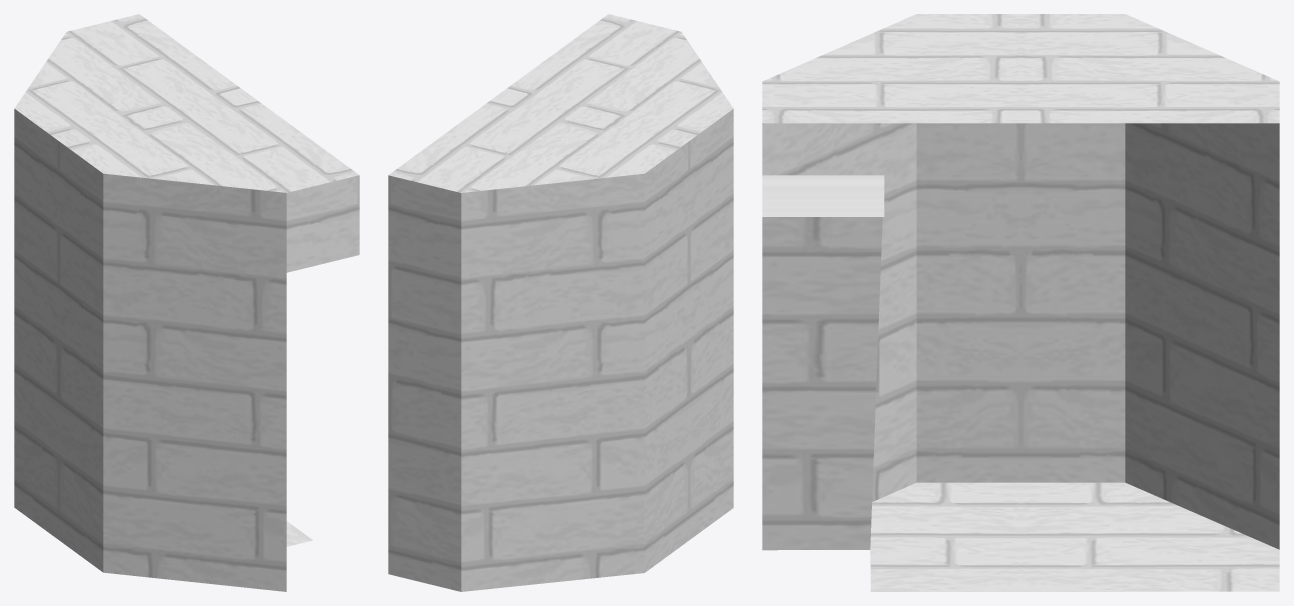
File: castle_type_e.gltf
3 views of the same model, side by side, from view 1: azimuth 30°, elevation 25°; view 2: azimuth 150°, elevation 25°; view 3: azimuth 270°, elevation 25° (orthographic). The views are drawn at different scales.
Visible parts, largest first — view 1: Type_E; view 2: Type_E; view 3: Type_E.
Boxes of the visible parts, x1,y1,x2,y2 form: Type_E: (14,14,359,591); Type_E: (388,14,733,591); Type_E: (762,14,1279,591).
Size of the model in its own units: 0.5 by 1 by 1.
Materials: 1 (1 with a texture image).
